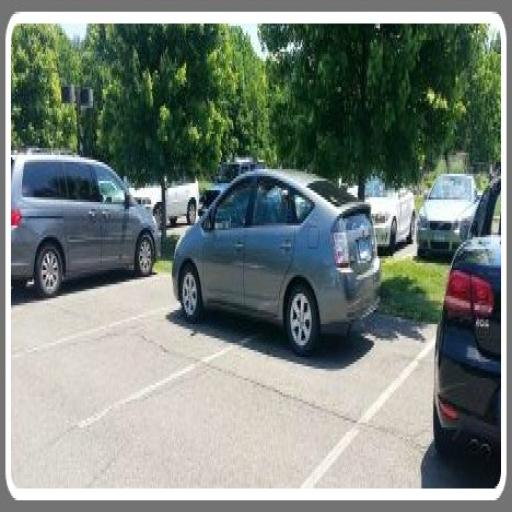Illegal-parking: (152, 75, 396, 424)
